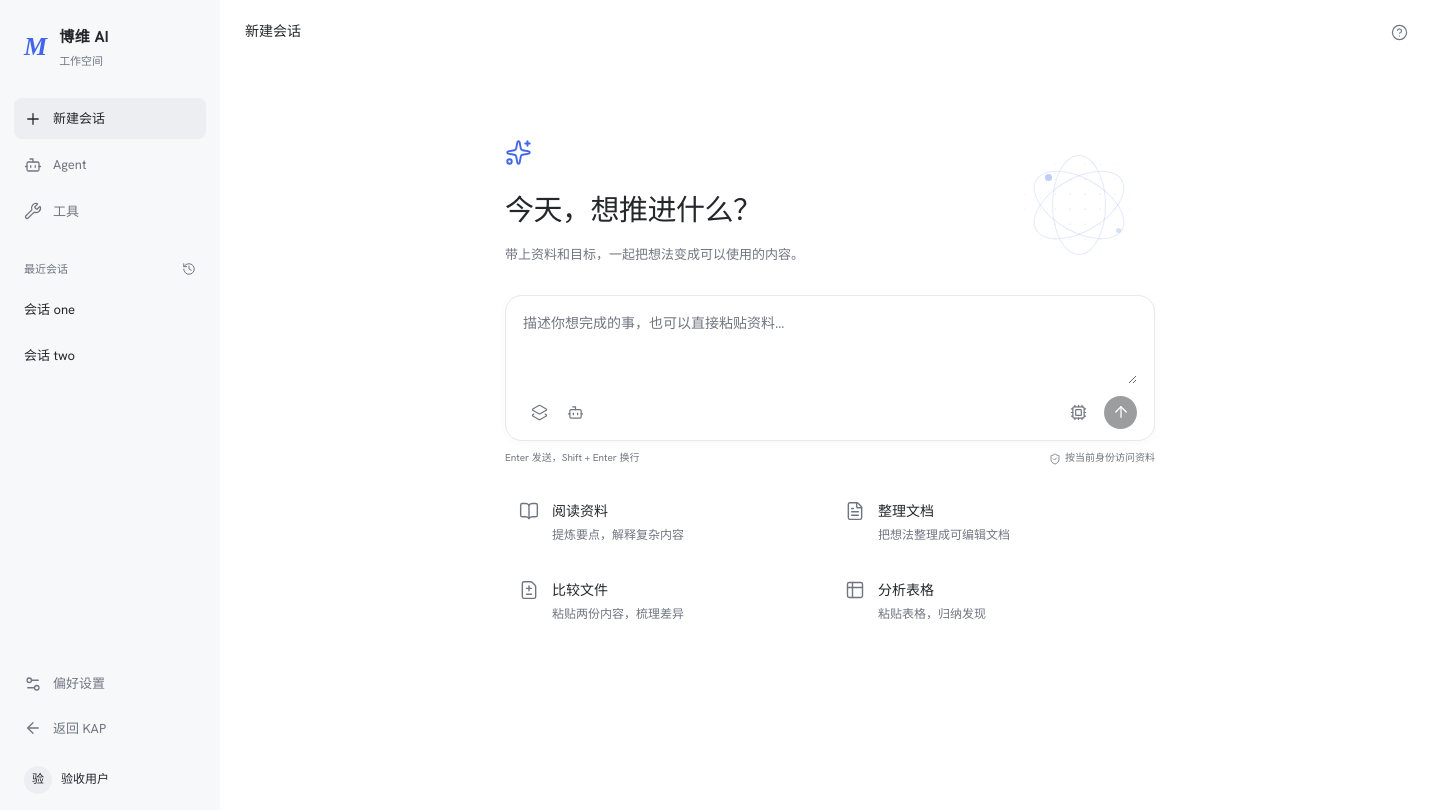
Test case: AI workspace lifecycle › does not navigate away from Agent when an earlier send finishes
Type "安排文档" into the text box named "消息" at (830, 348), box [523,311,1137,384]
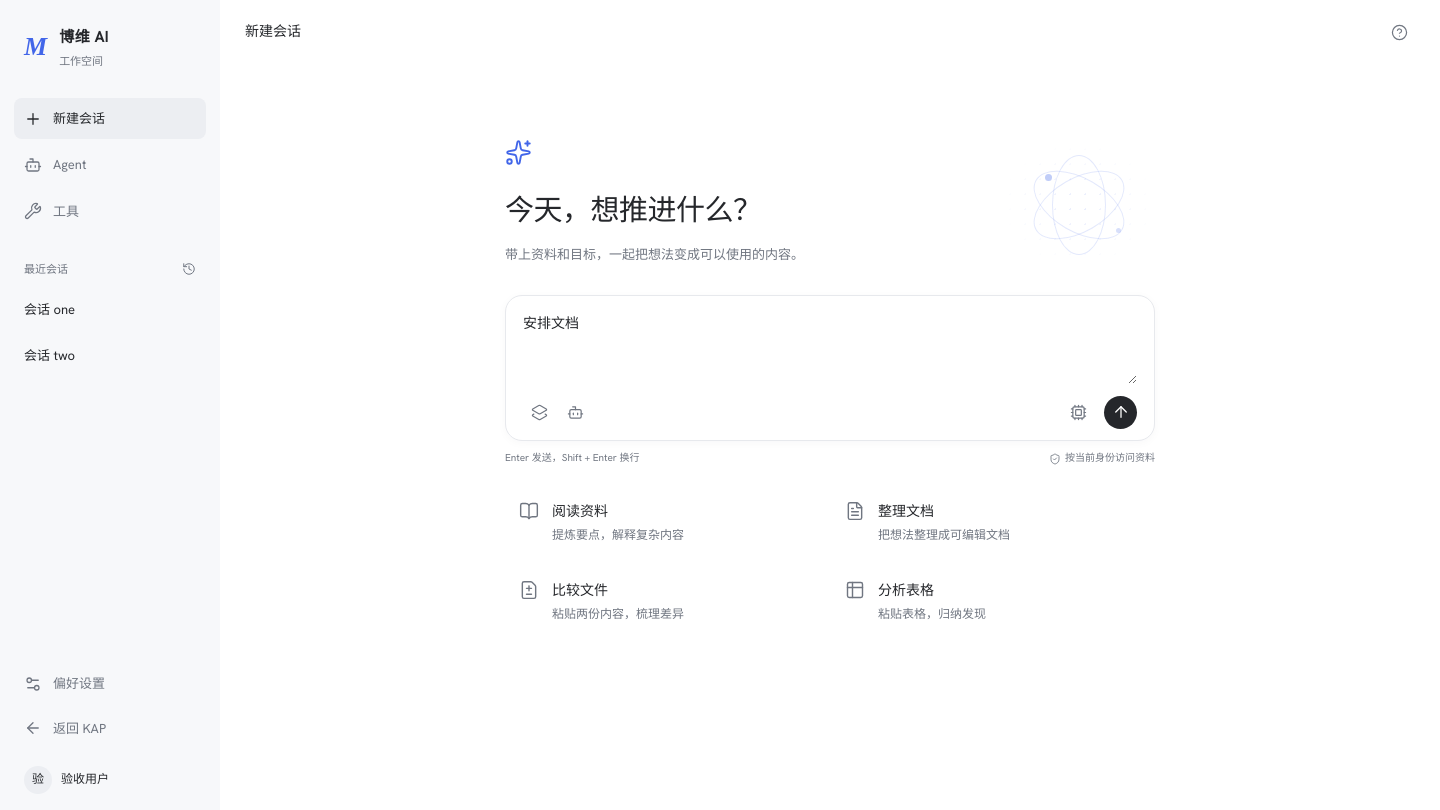
Click the button named "发送消息" at (1120, 412), box [1104,396,1137,429]
Wait 1 ms
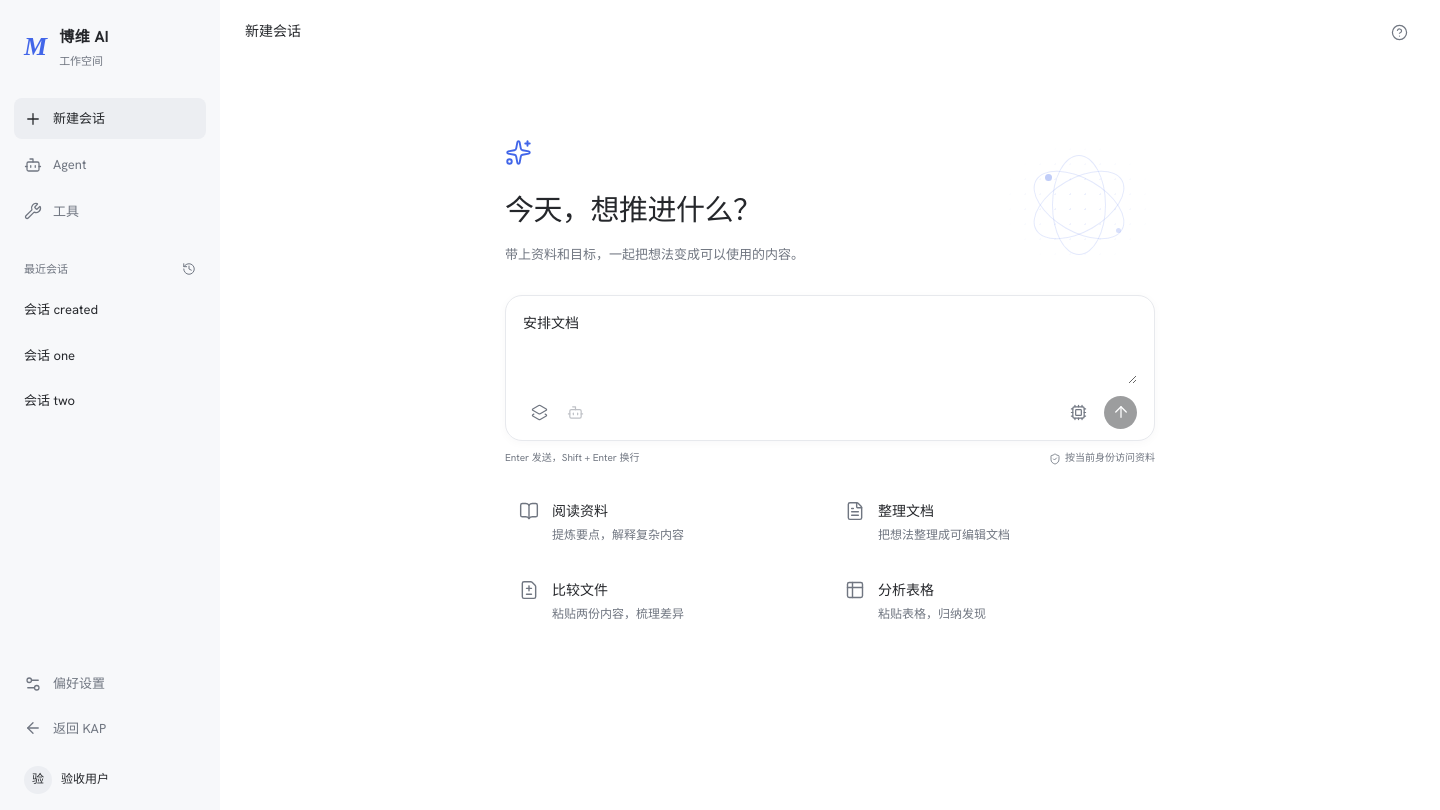
Click the button "Agent" at (110, 165), box [14,144,206,186]
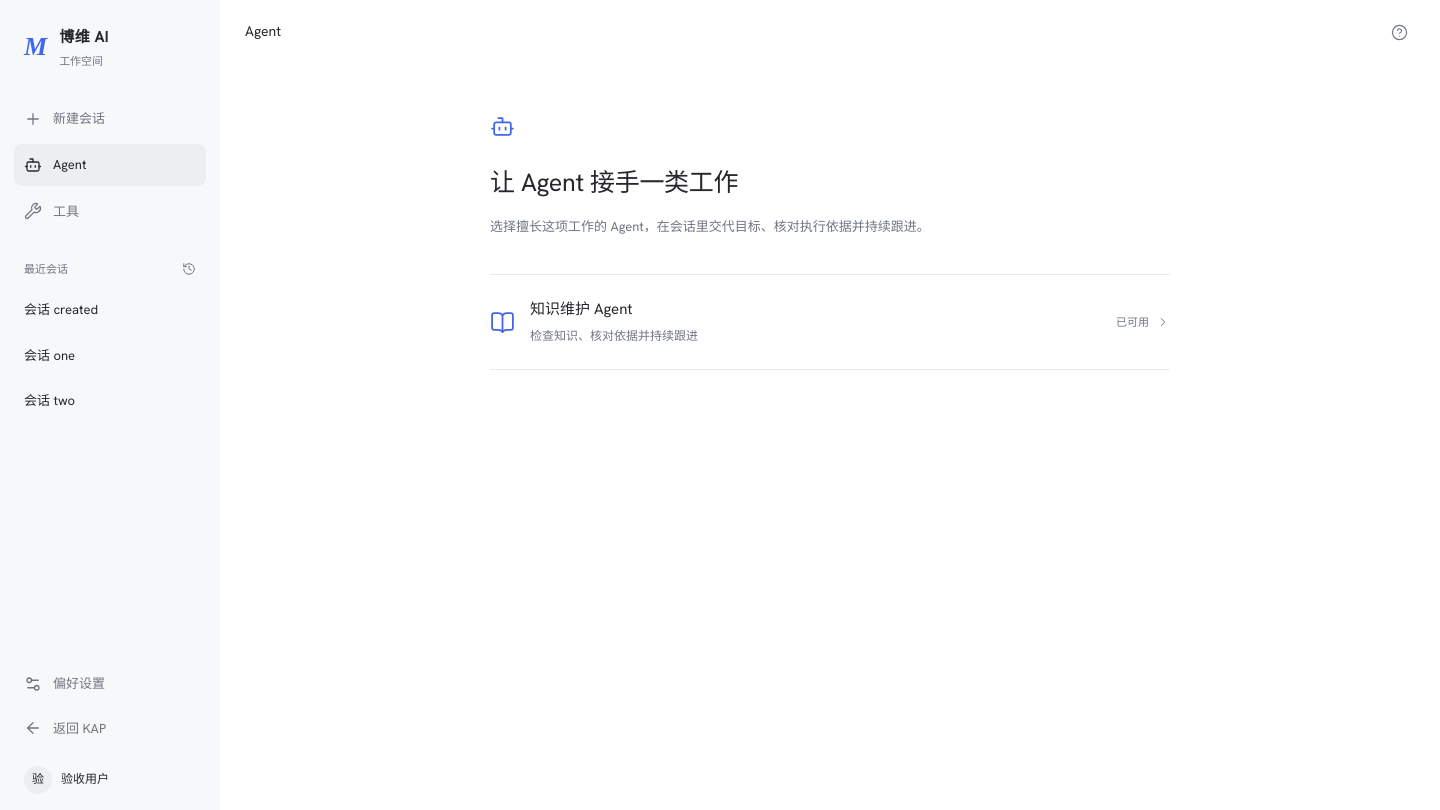
Now the heading "让 Agent 接手一类工作" is shown, box [490,166,738,199]
